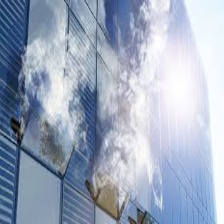smoke: (120, 42, 155, 190), (34, 49, 81, 138)
